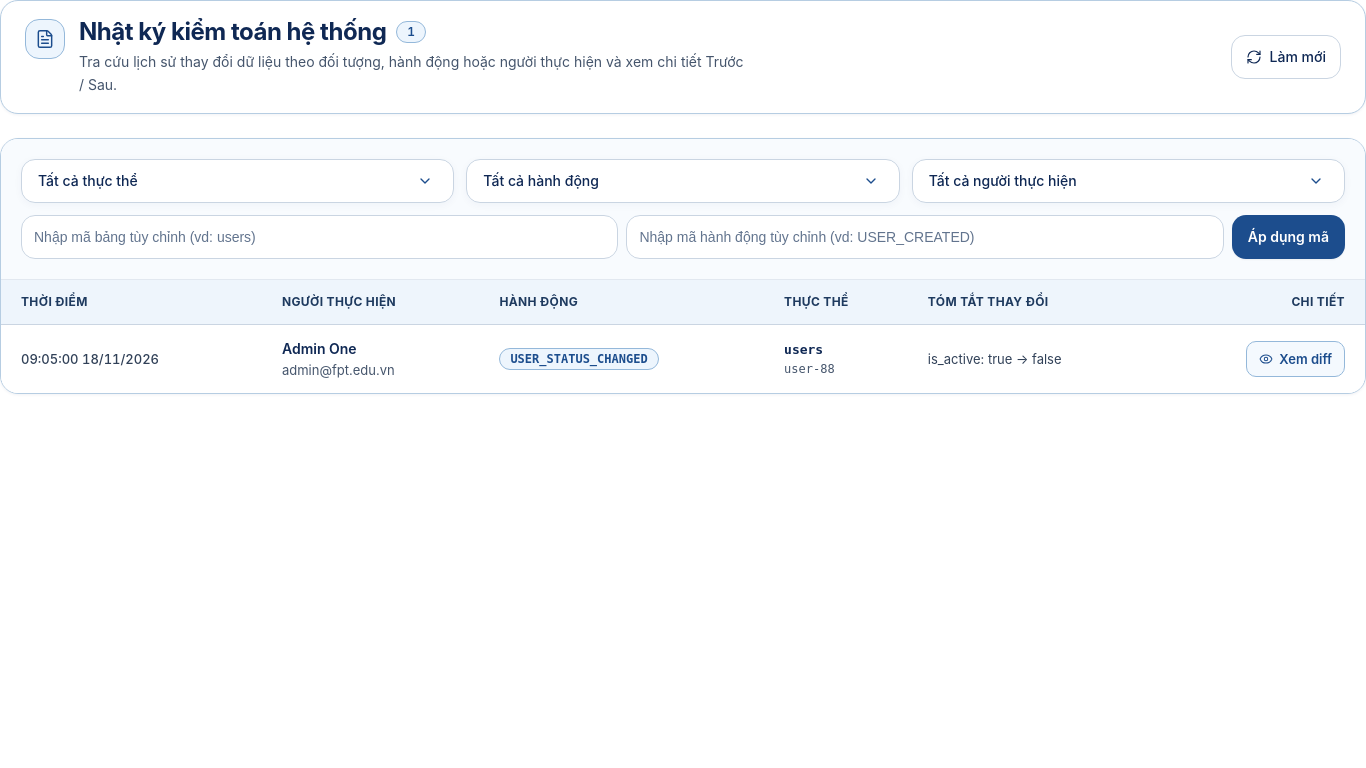
Test: AdminAuditLogsPage › renders both oldNote and newNote when both exist and differ, and hides EmptyState on fetch error
Later steps or results of the test are not shown.
Step 1. Click the button with aria-label "Xem diff USER_STATUS_CHANGED" → (1296, 359), box [1246,341,1345,377]
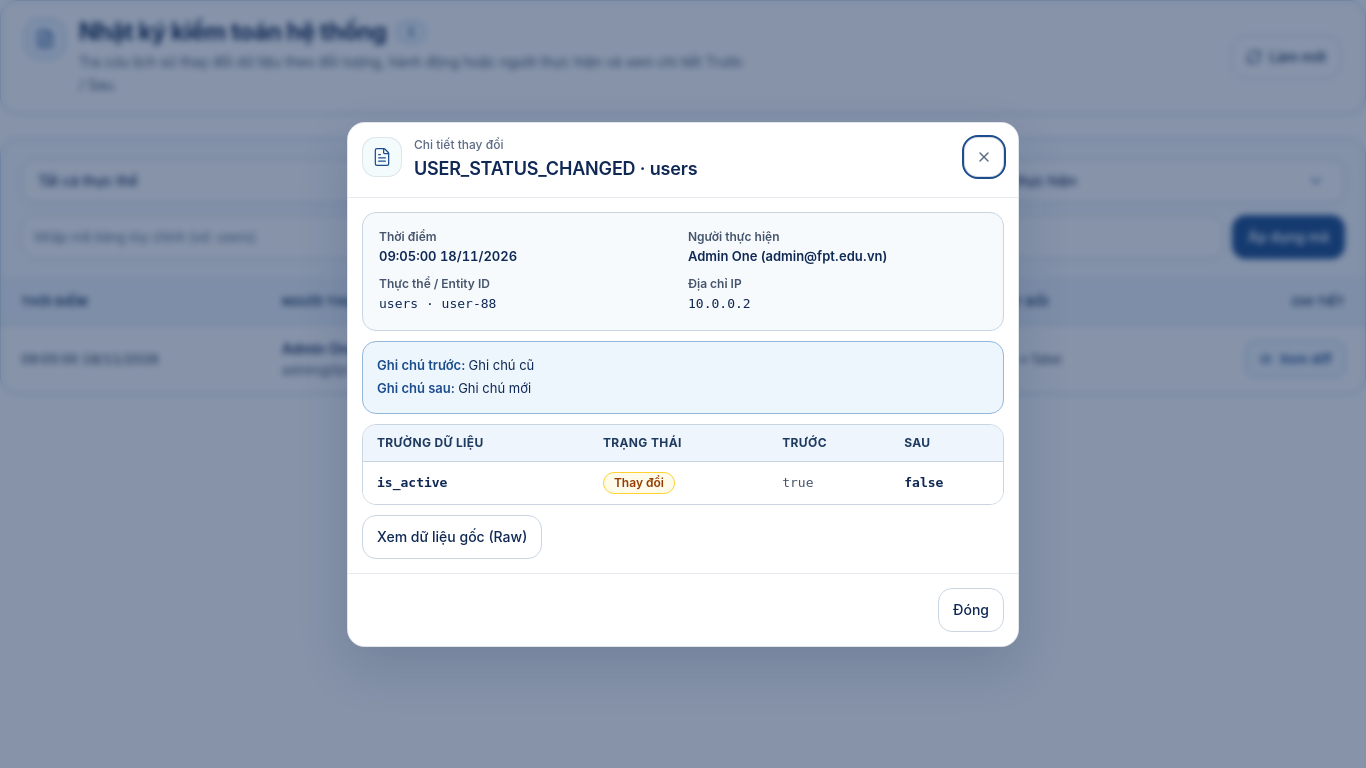
Result: the text "Ghi chú cũ" is shown at [468,356,534,372]
Result: the text "Ghi chú mới" is shown at [458,380,531,396]
